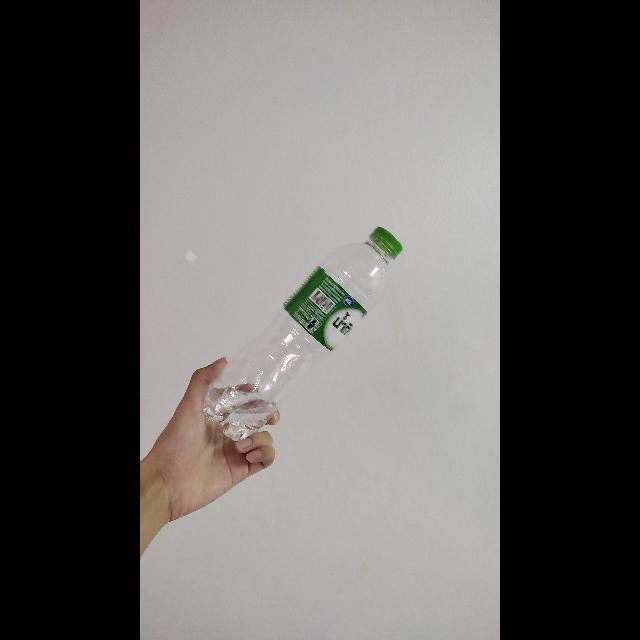plastic_bottle: (196, 224, 404, 446)
plastic_bottle_cap: (368, 225, 402, 261)
